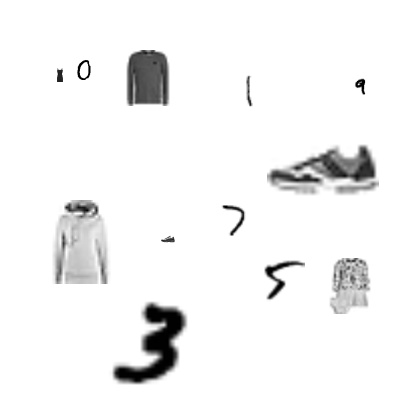0: (69, 56, 97, 84)
1: (227, 70, 269, 112)
3: (98, 287, 210, 399)
5: (249, 247, 305, 303)
7: (214, 195, 256, 237)
9: (350, 74, 372, 96)
Dress: (322, 258, 378, 314), (53, 68, 67, 82)
Pullover: (38, 200, 122, 284), (119, 50, 175, 106)
Sneaker: (267, 114, 379, 226), (161, 232, 175, 246)
